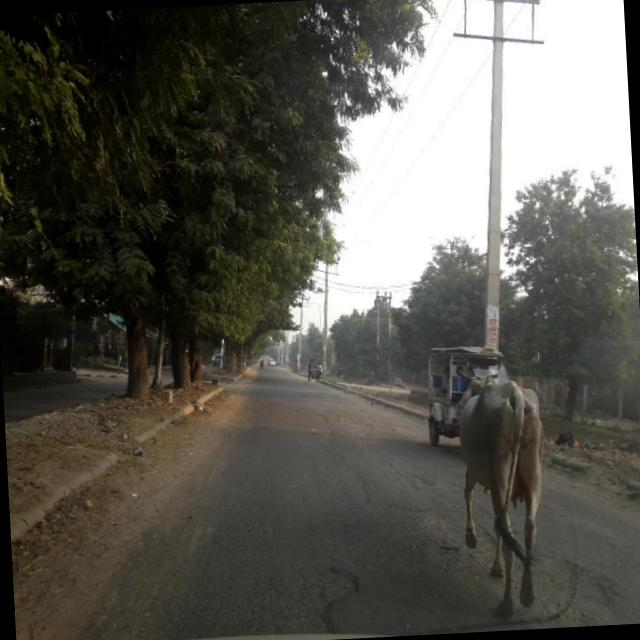pothole: (309, 554, 372, 632)
